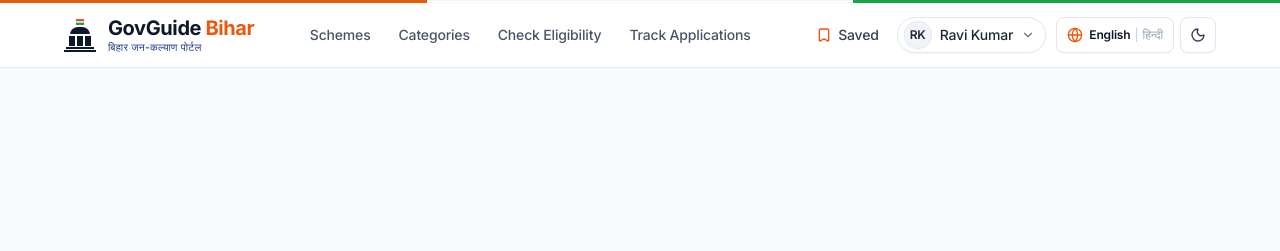
it: Core UI Components › Navbar displays authenticated user's name and account menu
Click the button with aria-label "My Profile". click: (972, 35)
box: left=897, top=17, right=1046, bottom=53
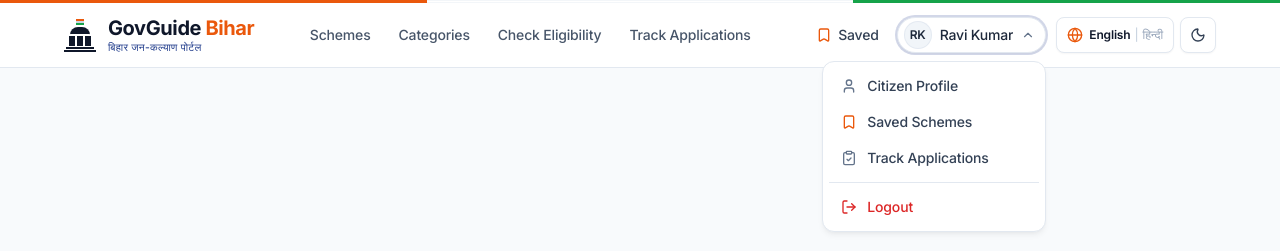
expect the menu named "Account menu" is shown: met, box left=822, top=61, right=1046, bottom=232
expect the menu item "Logout" is shown: met, box left=829, top=189, right=1039, bottom=225
